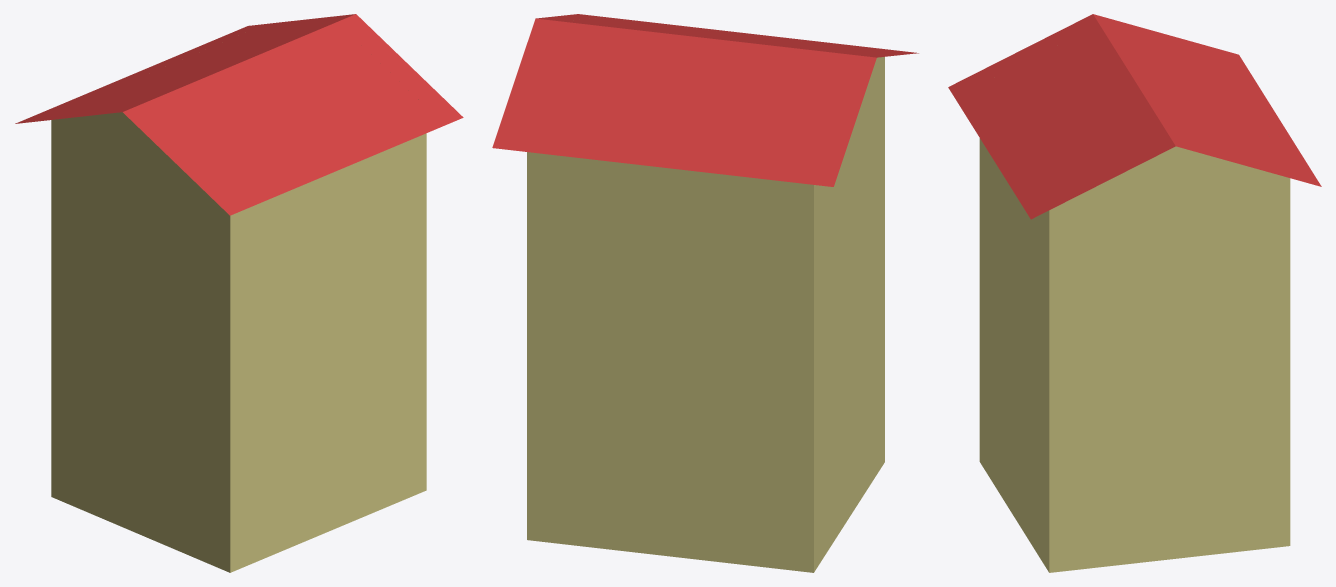
3 views of the same model, side by side, from view 1: azimuth 30°, elevation 25°; view 2: azimuth 150°, elevation 25°; view 3: azimuth 270°, elevation 25° (orthographic). The views are drawn at different scales.
Bounding box in the file's own units: 7.56 × 7.24 × 9.05.
